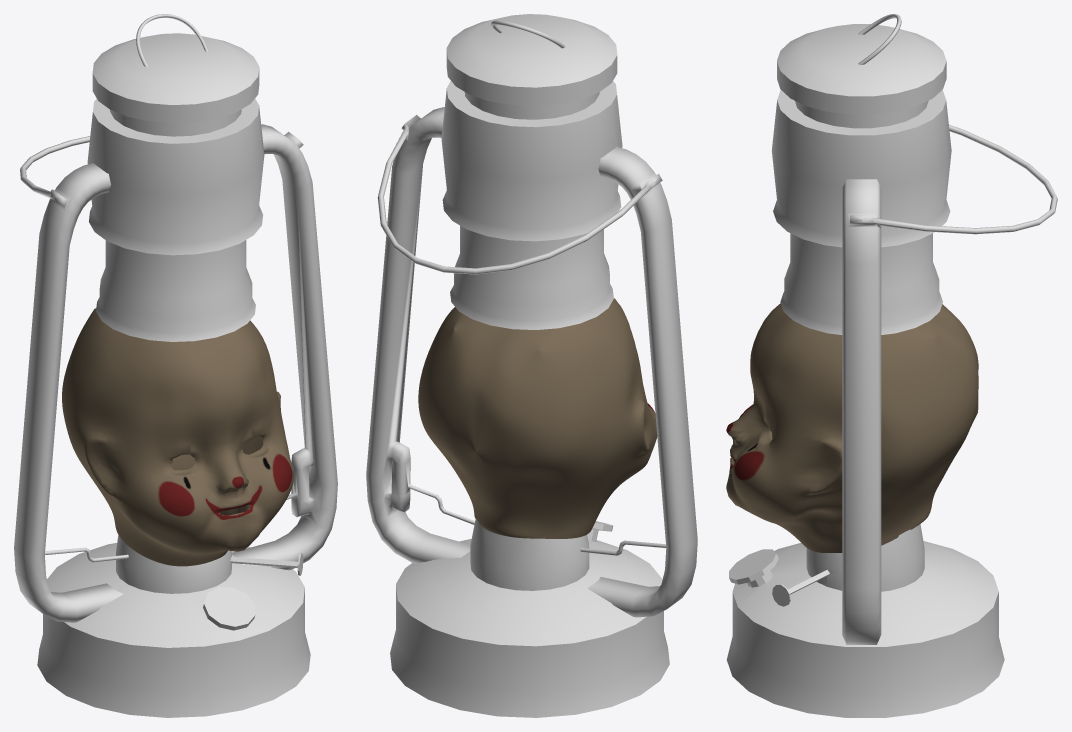
Rendered from NukkeLyhty.fbx.
3 views of the same model, side by side, from view 1: azimuth 30°, elevation 25°; view 2: azimuth 150°, elevation 25°; view 3: azimuth 270°, elevation 25° (orthographic). The views are drawn at different scales.
Parts seen in each view (by area): view 1: lyhty3, DOLL, lyhty1, lyhty2; view 2: lyhty3, DOLL, lyhty1, lyhty2; view 3: lyhty3, lyhty1, DOLL, lyhty2.
Boxes of the visible parts, left/top/right/bottom form: lyhty3: left=87, top=33, right=264, bottom=341; DOLL: left=62, top=308, right=293, bottom=566; lyhty1: left=37, top=535, right=310, bottom=717; lyhty2: left=14, top=14, right=337, bottom=622; lyhty3: left=441, top=14, right=622, bottom=329; DOLL: left=418, top=298, right=657, bottom=538; lyhty1: left=390, top=518, right=669, bottom=717; lyhty2: left=366, top=20, right=697, bottom=617; lyhty3: left=771, top=24, right=951, bottom=334; lyhty1: left=726, top=524, right=1004, bottom=717; DOLL: left=726, top=303, right=978, bottom=552; lyhty2: left=842, top=14, right=1057, bottom=644.
Bounding box in the file's own units: 39.68 × 77.66 × 36.43.
Materials: 1 (1 with a texture image).
